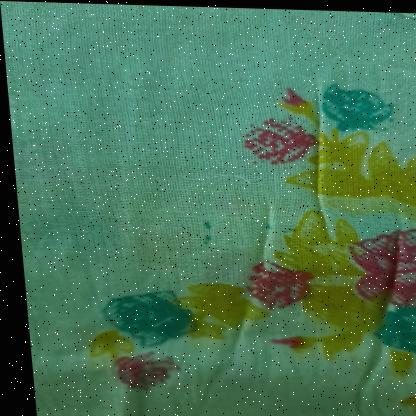spot: (191, 214, 217, 243)
